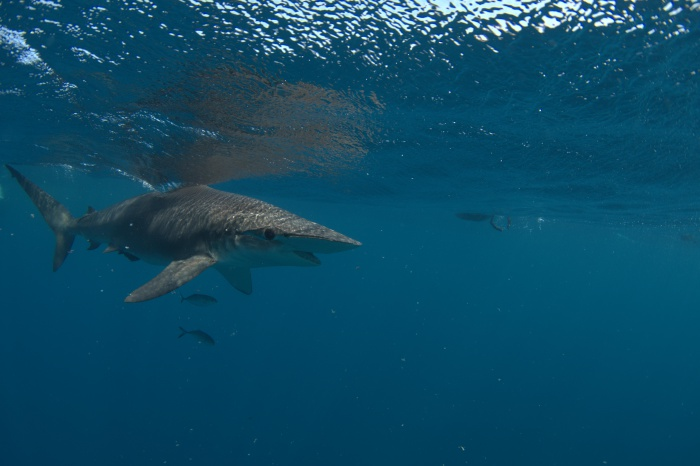Hammer: (1, 148, 377, 319)
